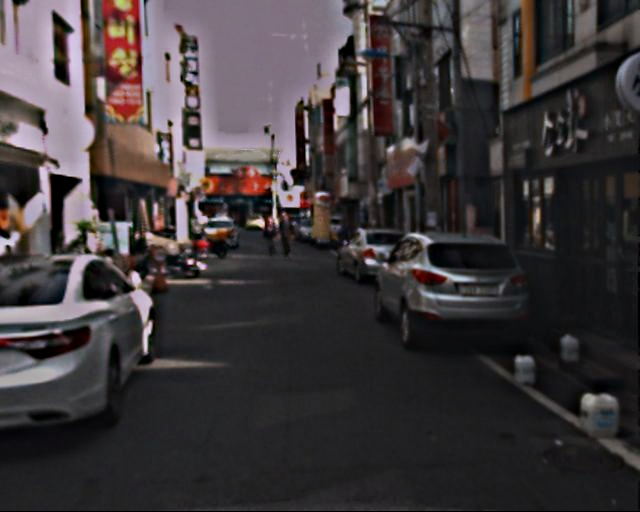person: (334, 215, 355, 270), (279, 214, 299, 266), (262, 215, 282, 261)
